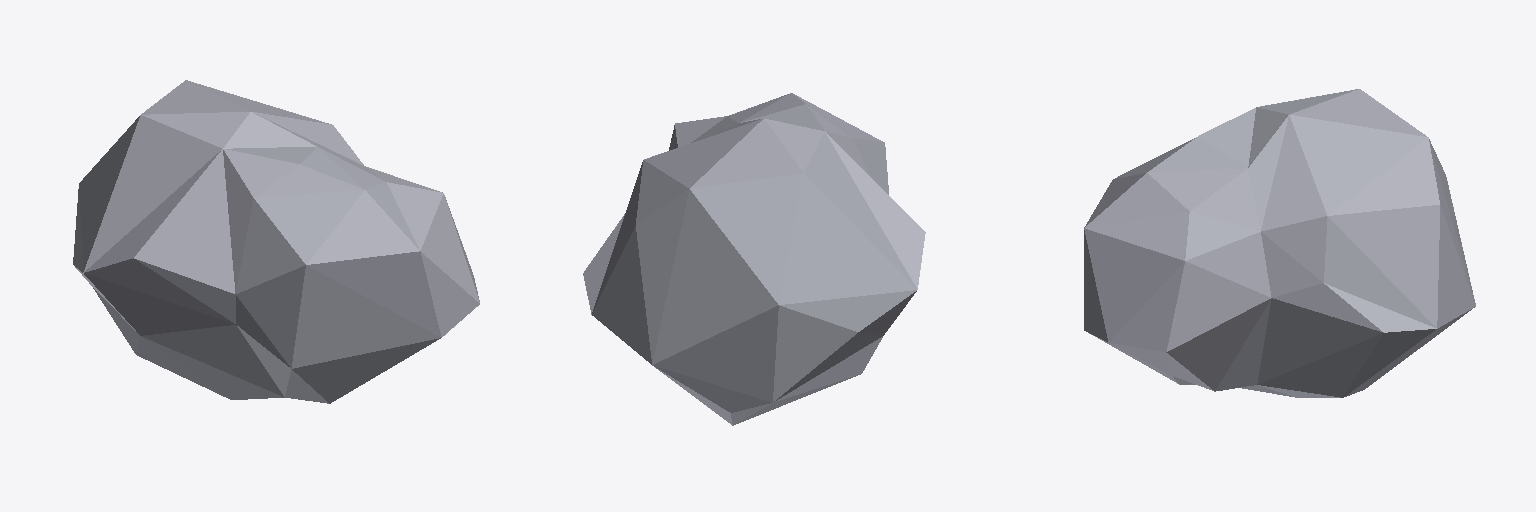
File: rock_2.obj
3 renders of one model, left to right at view 1: azimuth 30°, elevation 25°; view 2: azimuth 150°, elevation 25°; view 3: azimuth 270°, elevation 25°, orthographic.
Parts seen in each view (by area): view 1: Rock9; view 2: Rock9; view 3: Rock9.
Boxes of the visible parts, x1=… form: Rock9: x1=73, y1=80, x2=479, y2=403; Rock9: x1=583, y1=93, x2=925, y2=425; Rock9: x1=1084, y1=89, x2=1475, y2=397.
Size of the model in its own units: 1.34 by 1.12 by 1.41.